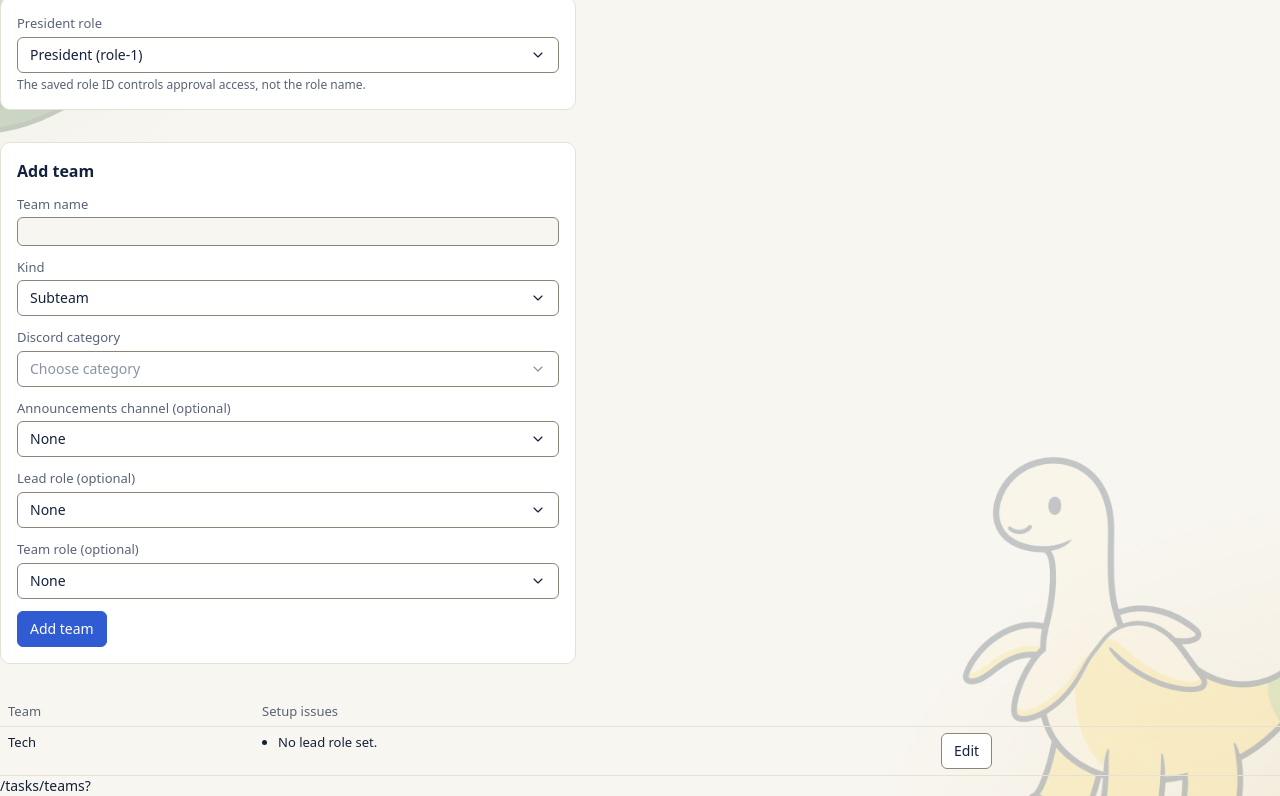
Test: teams page tabs and kit controls › edit team: Select picks send the same PUT, and a failed delete keeps the form and its input
(page scrolled)
Click the button with aria-label "Edit Tech": (967, 751) [941,733,992,769]
(page scrolled)
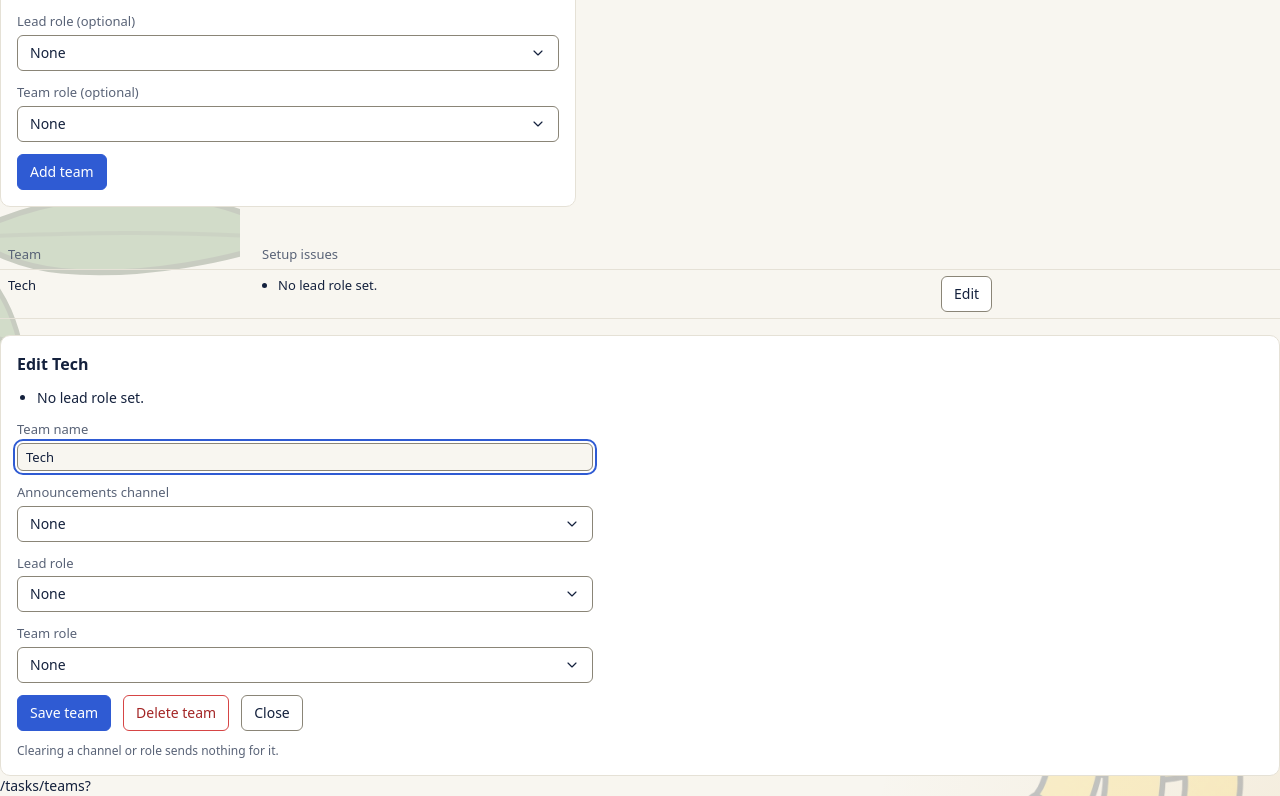
Replace the text in the field labelled "Team name" with "Tech 2": (305, 457) [17,443,593,471]
Click the dropdown named "Lead role": (48, 594) [17,576,593,612]
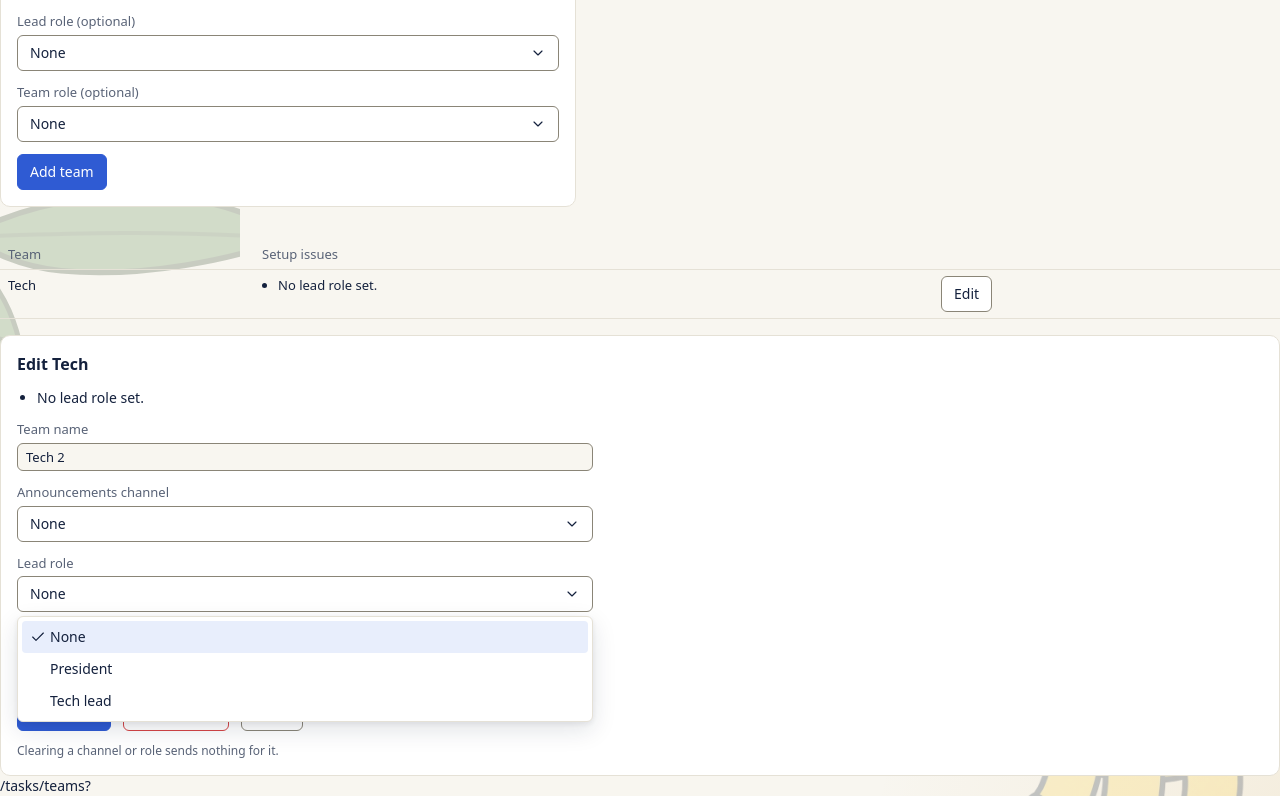
Click the option "Tech lead": (81, 700) [50,691,112,710]
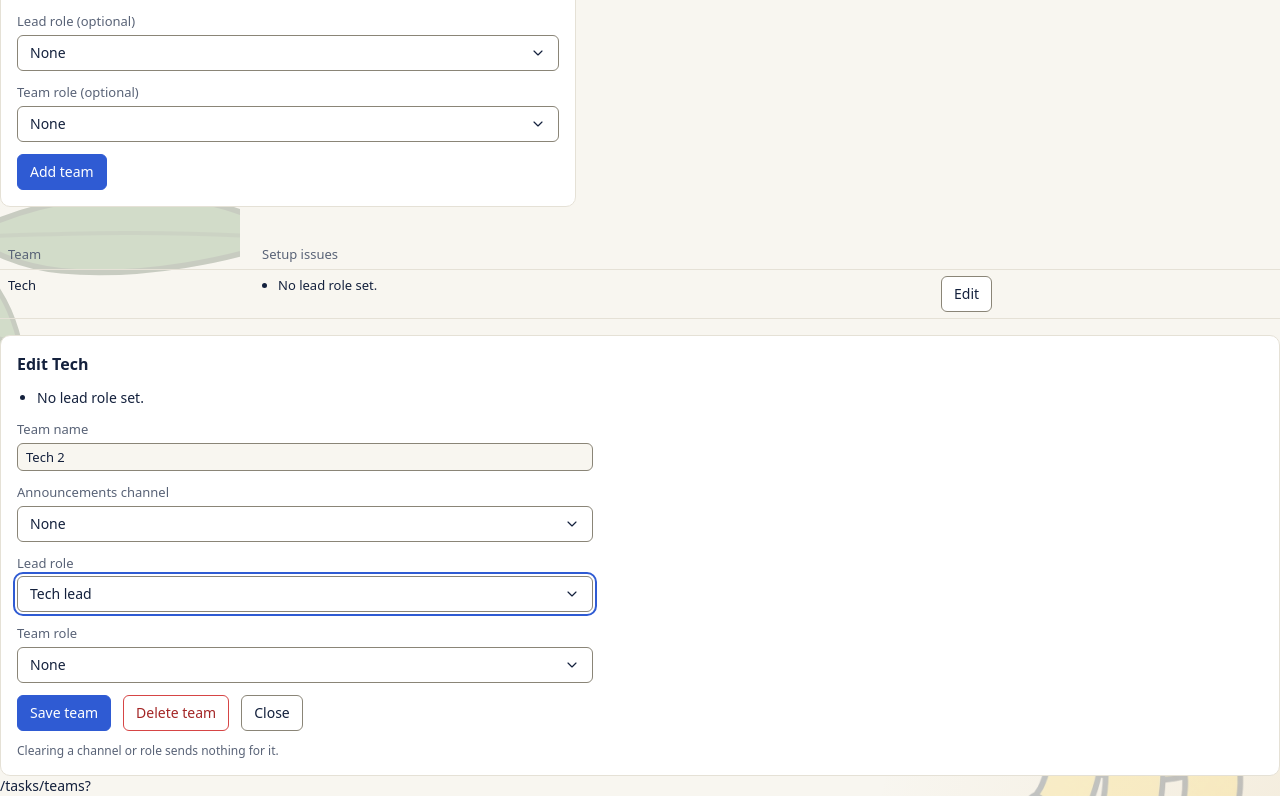
Click the button "Save team": (64, 713) [17,695,111,731]
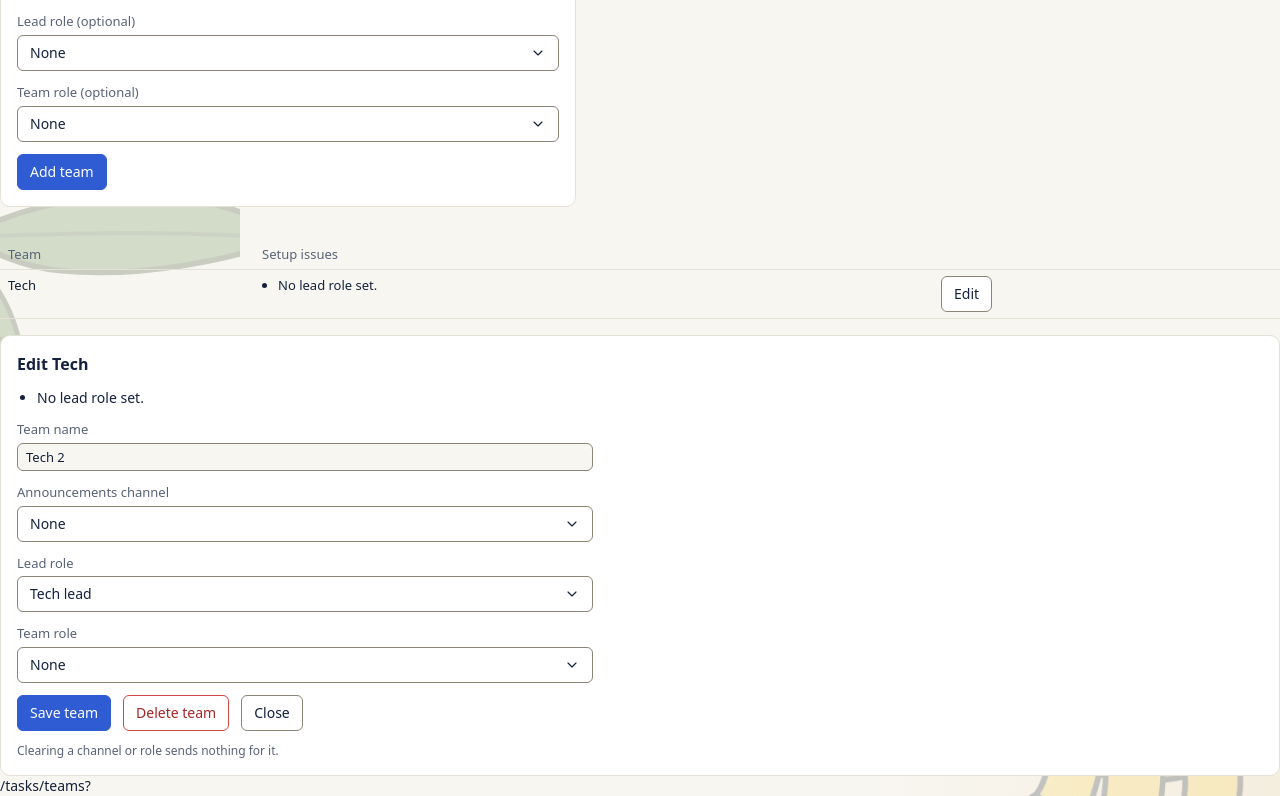
Click the button "Delete team": (176, 713) [123,695,229,731]
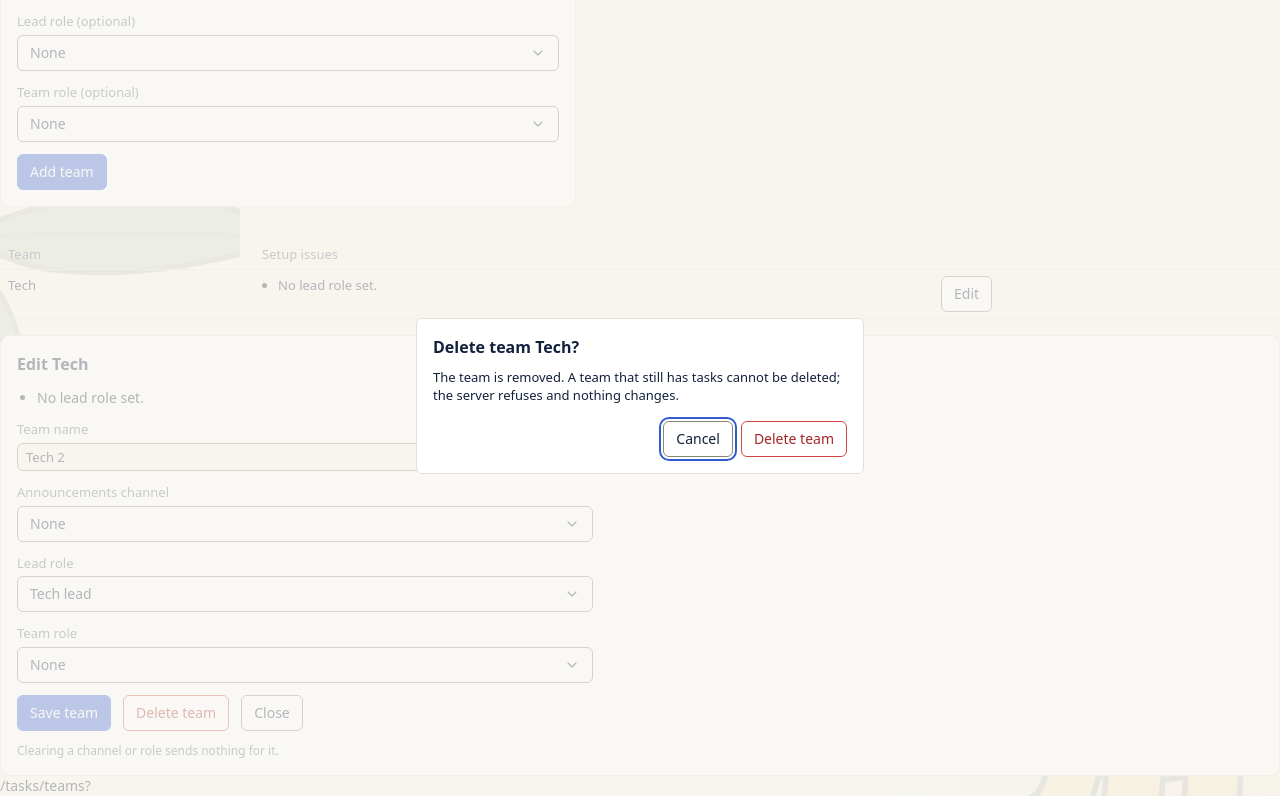
Click the button "Delete team": (794, 439) [741,421,847,457]
(page scrolled)
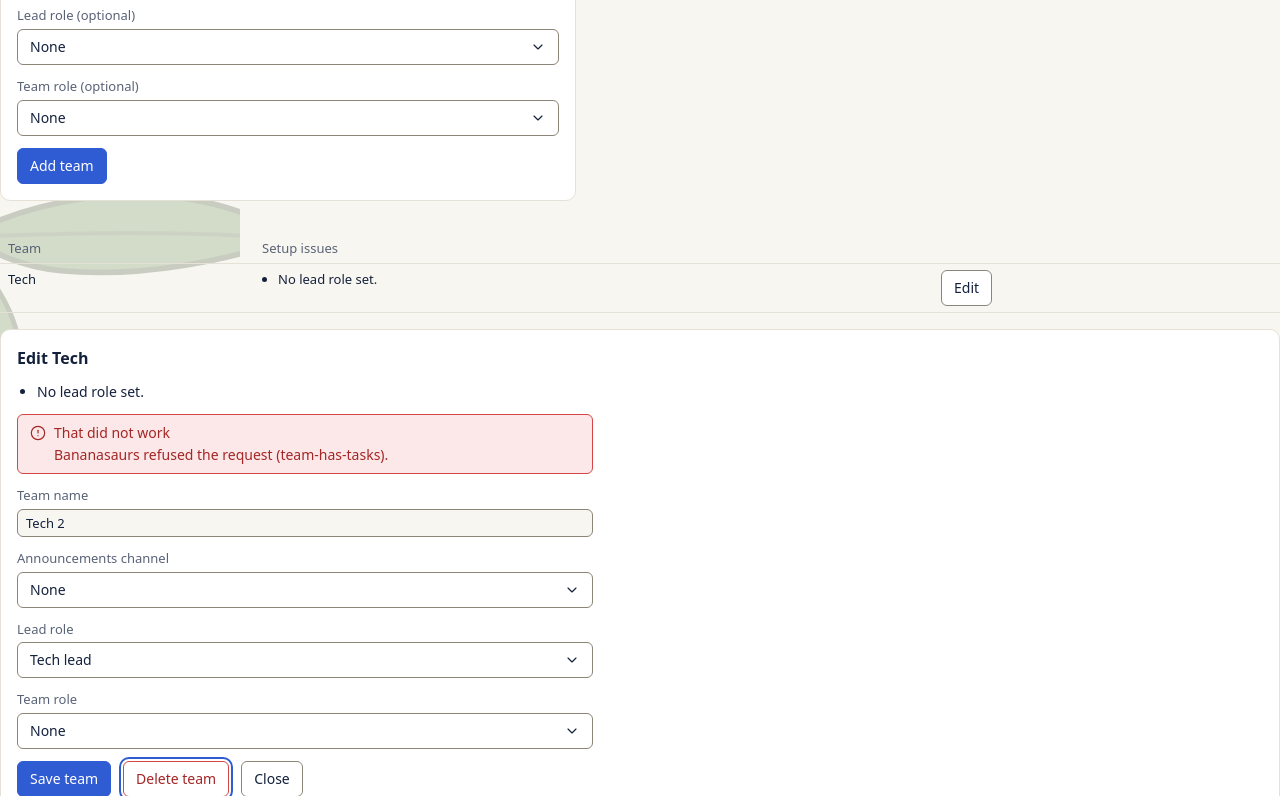
Check: the text "Bananasaurs refused the request (team-has-tasks)." is shown, box [54,445,388,464]
